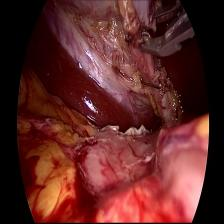Clipper: (140, 0, 196, 63)
